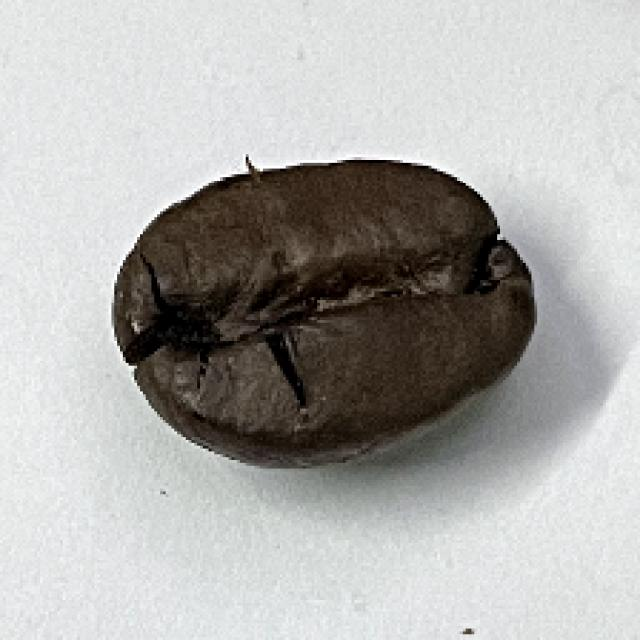bean: (109, 154, 540, 466)
